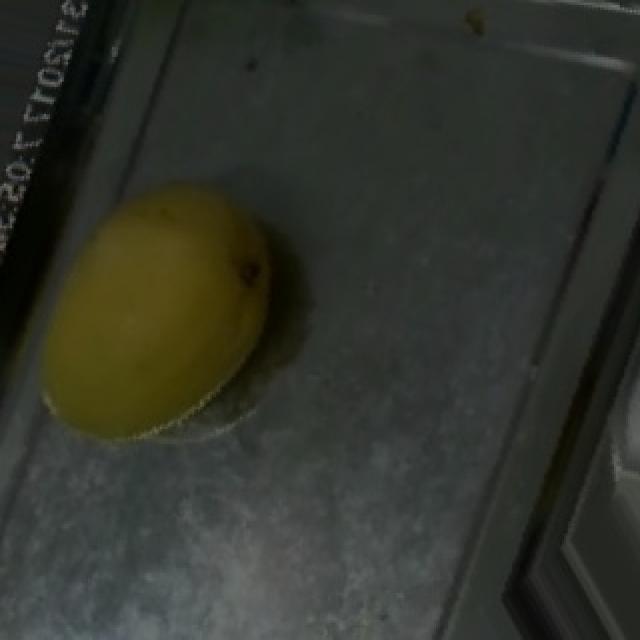fruit: (2, 144, 308, 466)
